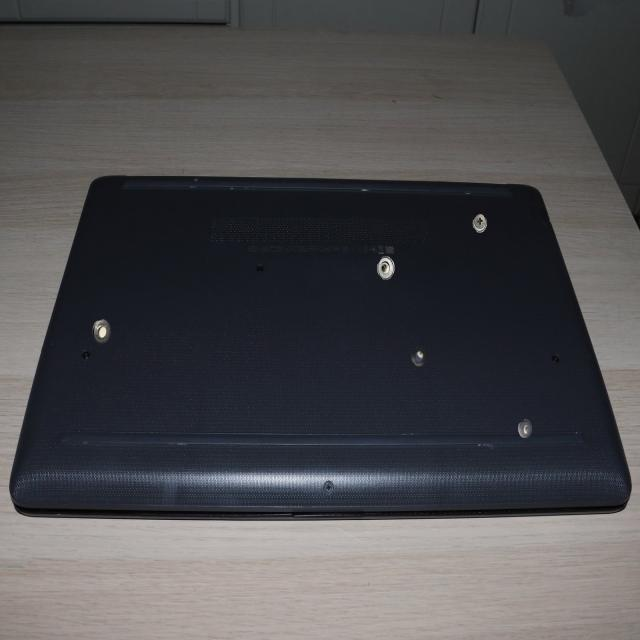lock: (472, 213, 487, 233)
missing_screw: (92, 318, 110, 343), (377, 256, 394, 279), (411, 346, 426, 366), (518, 419, 532, 438)
